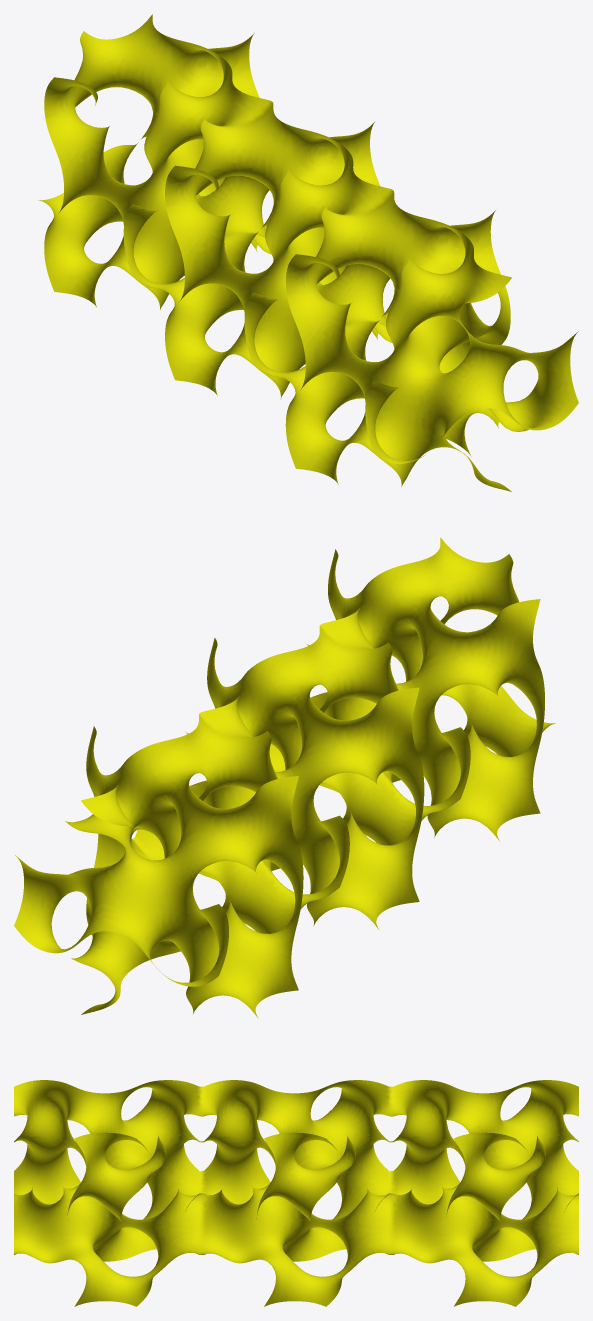
The model's file is lattice_periodic.glb.
3 renders of one model, top to bottom at view 1: azimuth 30°, elevation 25°; view 2: azimuth 150°, elevation 25°; view 3: azimuth 270°, elevation 25°, orthographic. The views are drawn at different scales.
Visible parts, largest first — view 1: world; view 2: world; view 3: world.
Boxes of the visible parts, <box> form: world: <box>38,14,578,491</box>; world: <box>14,537,555,1018</box>; world: <box>14,1080,578,1306</box>.
Size of the model in its own units: 49 by 49 by 149.
